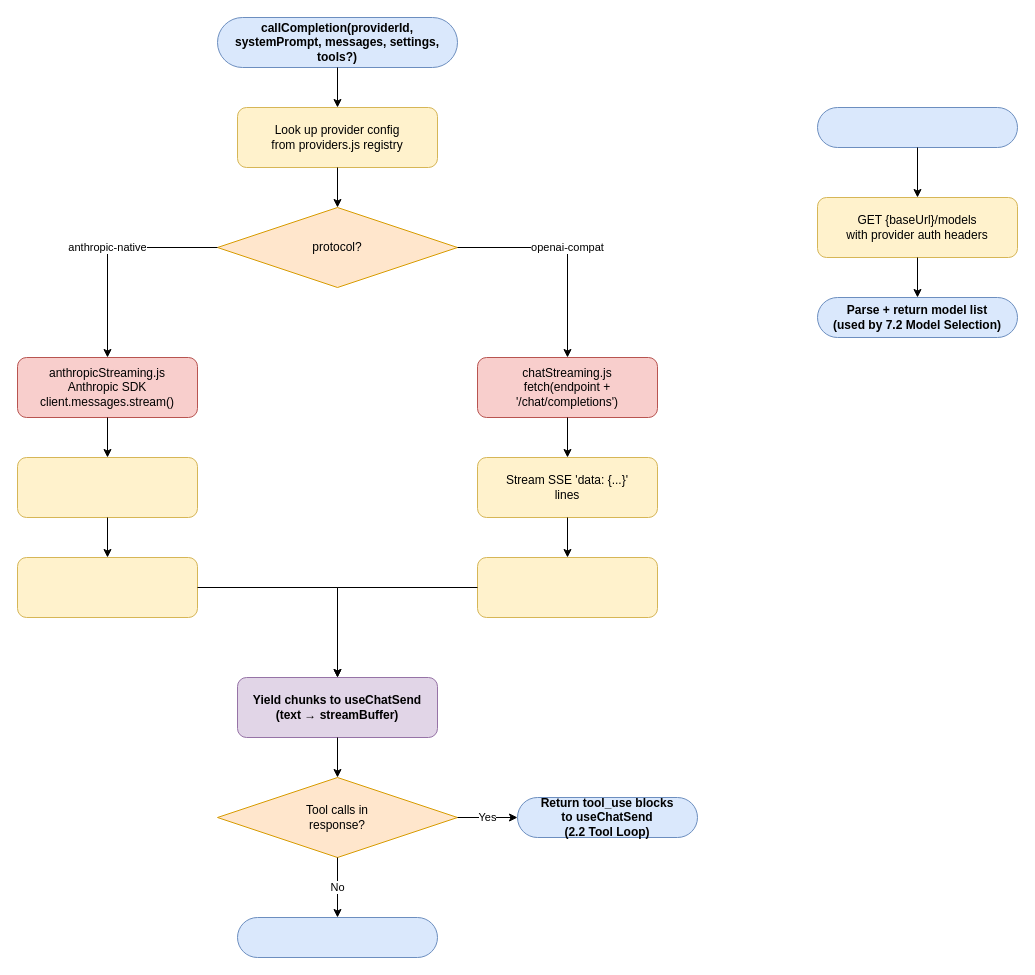
Some shapes in this 1035 by 975 pixel diagram are drawn without their labels. Here are the shapes that lost their labels. From the top down, the box of each, then its label:
(816, 106, 1018, 148): fetchModels(providerId)
(16, 456, 198, 518): Stream MessageStreamEvent chunks
(16, 556, 198, 618): Extract: text deltas, tool_use blocks, input_json_delta
(476, 556, 658, 618): Extract: delta.content, delta.tool_calls, parse JSON as it streams
(236, 916, 438, 958): finalizeStream() Move buffer to messages[]
